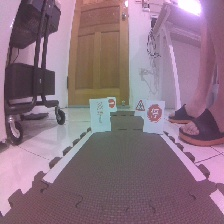blocked: (107, 96, 117, 110)
pedestrian: (135, 99, 146, 113)
rail: (91, 100, 108, 125)
stop: (148, 102, 161, 123)
